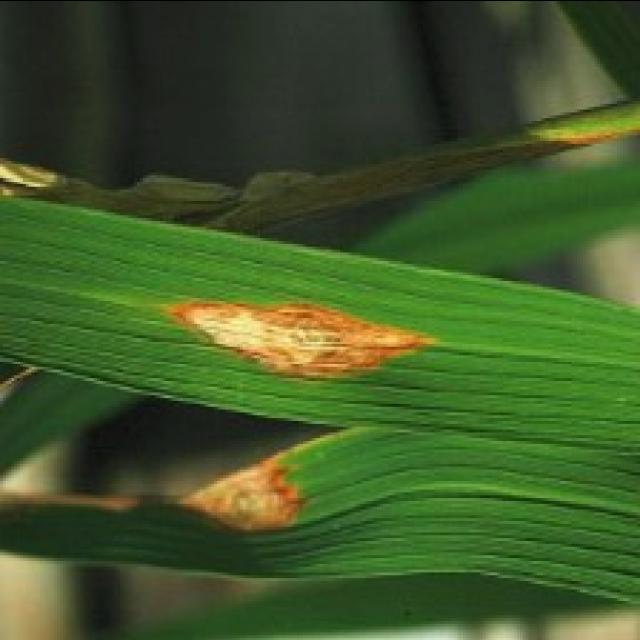Unhealthy: (293, 129, 640, 203), (160, 299, 436, 377), (177, 435, 330, 529), (0, 489, 142, 517)
